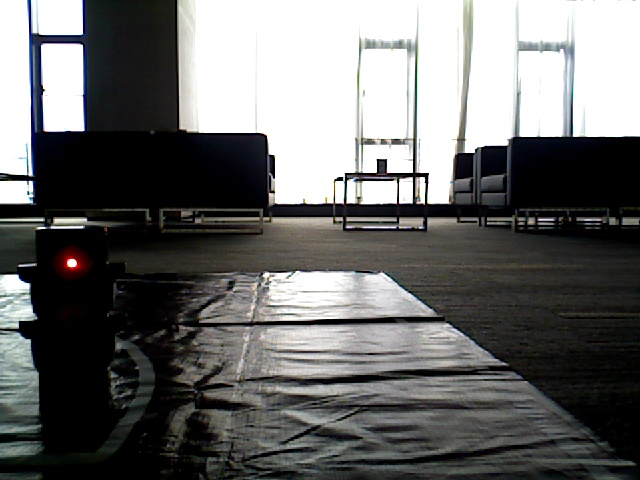red: (33, 232, 107, 399)
